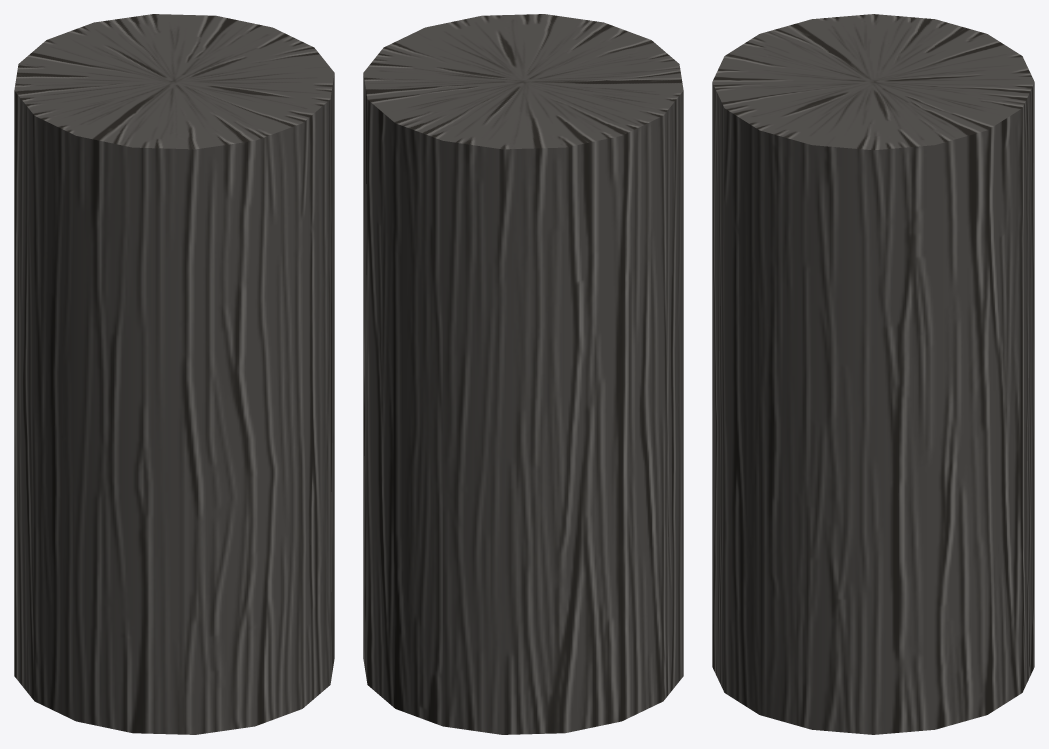
The model's file is Charcoal_01.fbx.
3 renders of one model, left to right at view 1: azimuth 30°, elevation 25°; view 2: azimuth 150°, elevation 25°; view 3: azimuth 270°, elevation 25°, orthographic.
Parts seen in each view (by area): view 1: pCylinder1; view 2: pCylinder1; view 3: pCylinder1.
Part boxes in pixels (bbox=[...]): pCylinder1: bbox=[14, 14, 334, 734]; pCylinder1: bbox=[363, 14, 683, 734]; pCylinder1: bbox=[712, 14, 1034, 734].
Bounding box in the file's own units: 0.05 × 0.1 × 0.05.
